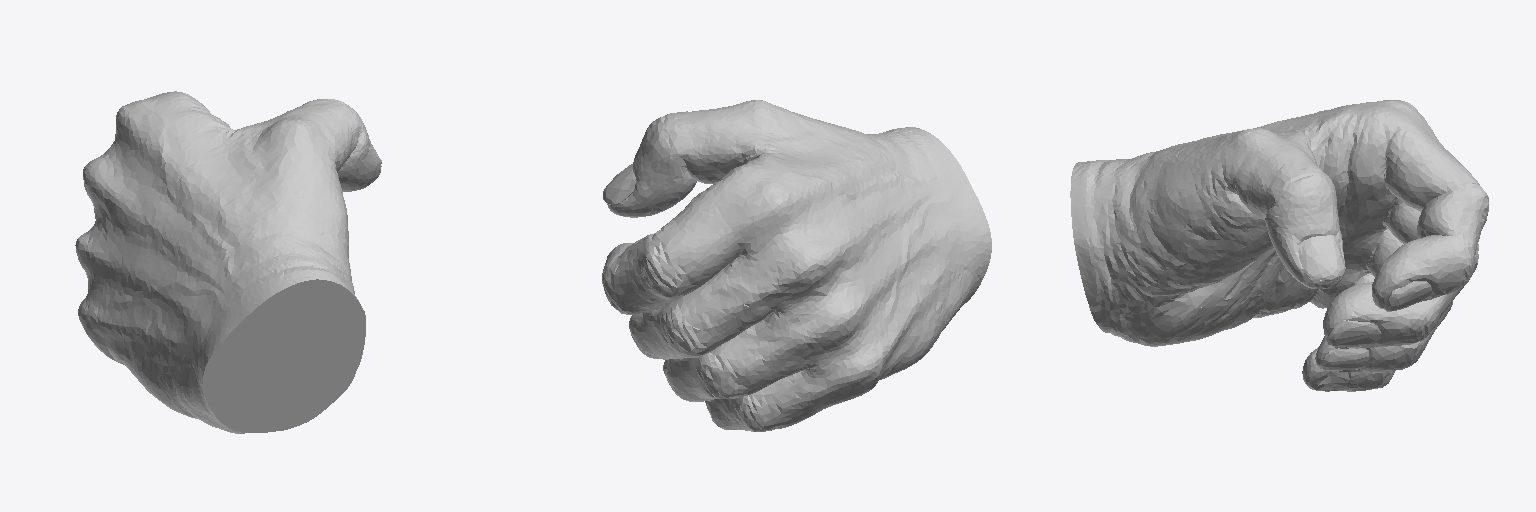
The model's file is leftHand.obj.
3 renders of one model, left to right at view 1: azimuth 30°, elevation 25°; view 2: azimuth 150°, elevation 25°; view 3: azimuth 270°, elevation 25°, orthographic.
Visible parts, largest first — view 1: uploads_files_[number redacted]_right_hand.002; view 2: uploads_files_[number redacted]_right_hand.002; view 3: uploads_files_[number redacted]_right_hand.002.
Part boxes in pixels (x1,y1,x2,y2): uploads_files_[number redacted]_right_hand.002: (75, 91, 381, 433); uploads_files_[number redacted]_right_hand.002: (602, 100, 991, 431); uploads_files_[number redacted]_right_hand.002: (1070, 100, 1488, 391).
Bounding box in the file's own units: 0.5449 × 0.505 × 0.6971.